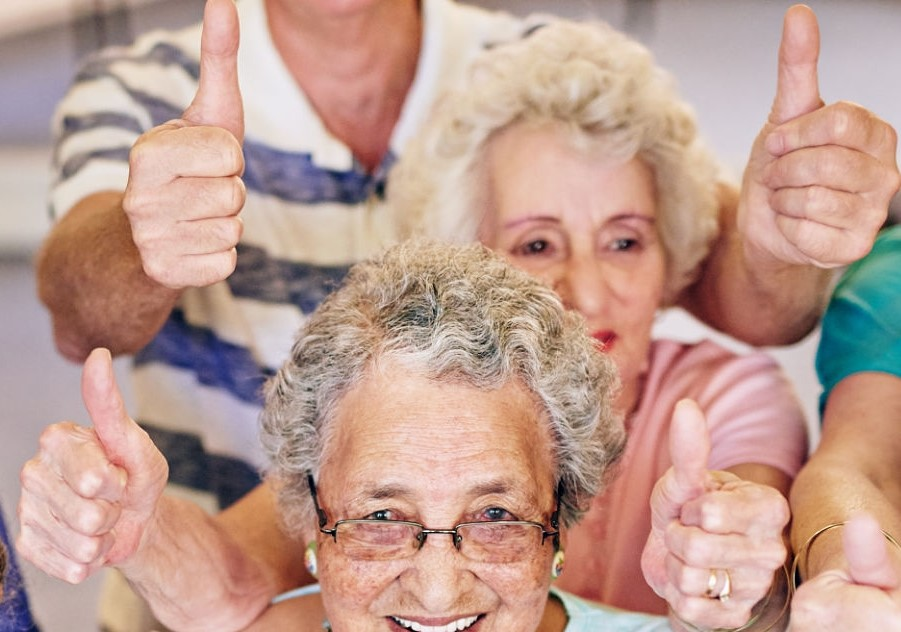thumbsup: (758, 3, 901, 265), (120, 1, 248, 291), (657, 398, 788, 632), (16, 346, 144, 585)
